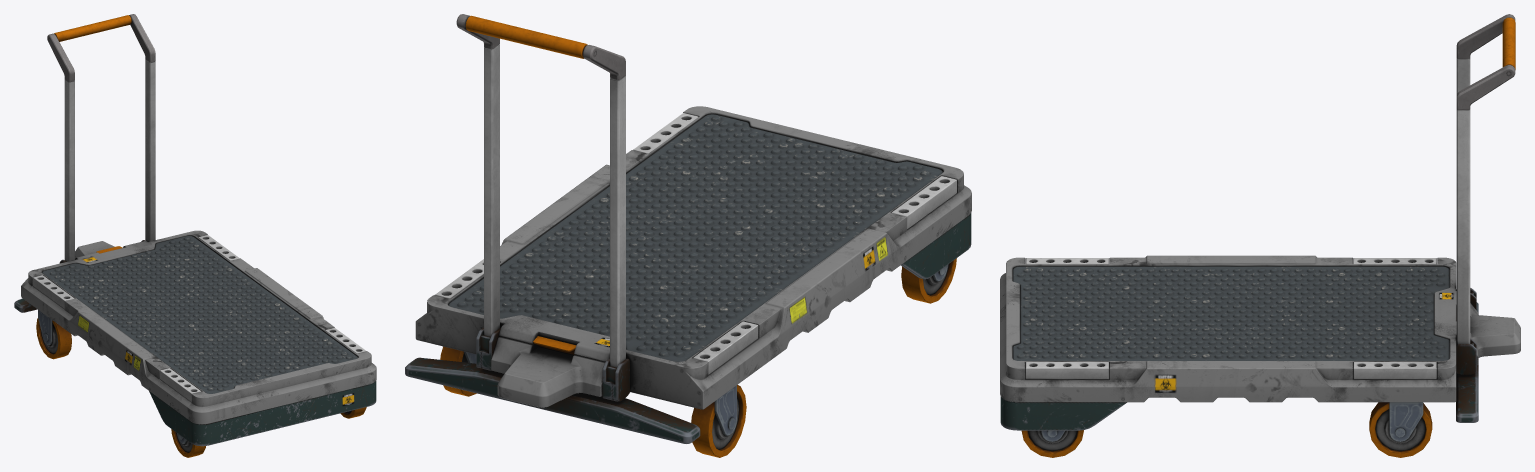
Rendered from SM_Cart.fbx.
The picture shows the model from 3 angles, left to right: view 1: azimuth 30°, elevation 25°; view 2: azimuth 150°, elevation 25°; view 3: azimuth 270°, elevation 25°; orthographic projection. The views are drawn at different scales.
Visible parts, largest first — view 1: SM_Cart_LOD0; view 2: SM_Cart_LOD0; view 3: SM_Cart_LOD0.
Boxes of the visible parts, box(x1,y1,x2,y2) form: SM_Cart_LOD0: box(14, 14, 376, 457); SM_Cart_LOD0: box(405, 14, 971, 457); SM_Cart_LOD0: box(1000, 14, 1520, 457).
Bounding box in the file's own units: 91.12 × 173 × 133.
1 material, 1 textured.
